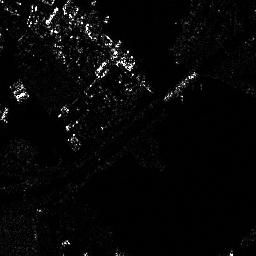ship: (165, 69, 198, 101)
